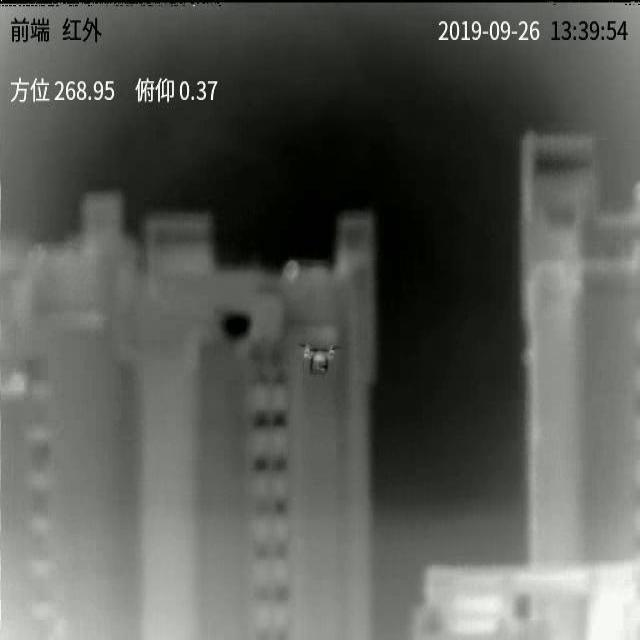drone: (298, 343, 344, 376)
